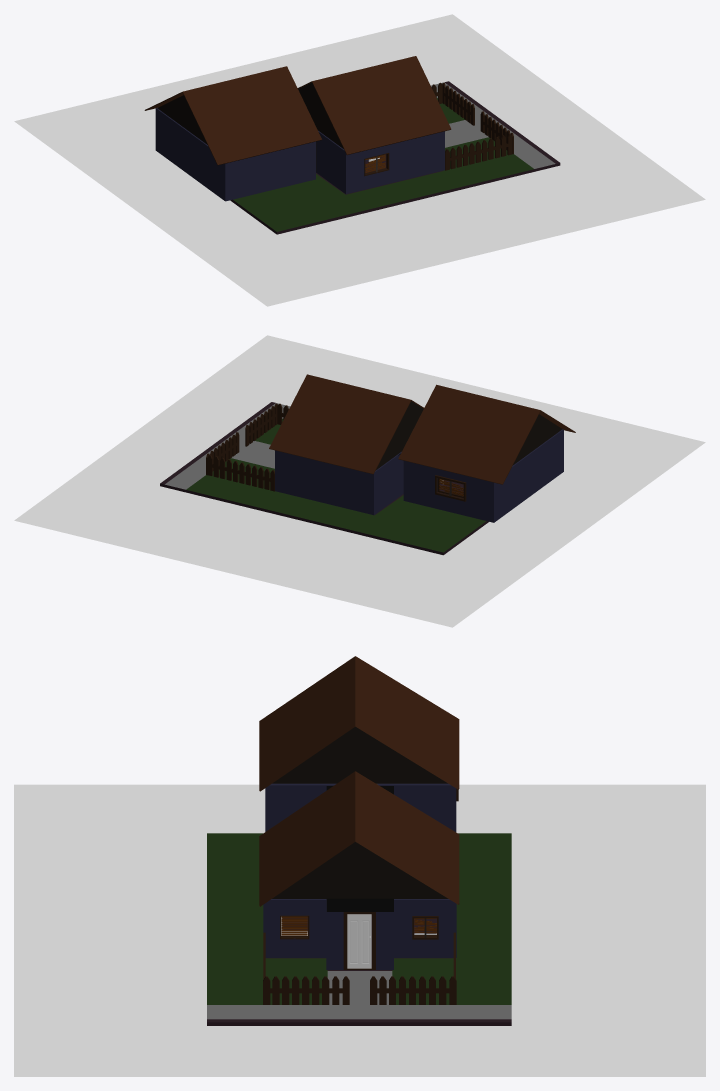
The model's file is Layout.fbx.
3 renders of one model, top to bottom at view 1: azimuth 30°, elevation 25°; view 2: azimuth 150°, elevation 25°; view 3: azimuth 270°, elevation 25°, orthographic. The views are drawn at different scales.
Visible parts, largest first — view 1: Plane, Cube.015, Cube.073, Cube.074, Cube.016, wall, Cube.001, Cube.076, Cube.078, Cube.014, Cube.013; view 2: Plane, Cube.015, Cube.073, Cube.074, Cube.016, wall, Cube.012, Cube.076, Cube.078, Cube.013, Cube.014; view 3: Plane, Cube.015, Cube.074, Cube.073, wall, Cube.075, Cube.077, Cube.016, Cube.013, Cube.014, DOOR, Plane.002.
Boxes of the visible parts, <box> form: Plane: <box>14,14,705,306</box>; Cube.015: <box>230,81,560,234</box>; Cube.073: <box>144,66,321,165</box>; Cube.074: <box>297,56,451,154</box>; Cube.016: <box>155,107,315,201</box>; wall: <box>316,130,444,194</box>; Cube.001: <box>445,134,512,170</box>; Cube.076: <box>298,82,343,148</box>; Cube.078: <box>157,95,207,144</box>; Cube.014: <box>442,82,474,125</box>; Cube.013: <box>480,111,513,154</box>; Plane: <box>14,335,705,627</box>; Cube.015: <box>160,402,488,555</box>; Cube.073: <box>398,384,575,484</box>; Cube.074: <box>269,374,423,474</box>; Cube.016: <box>403,429,563,522</box>; wall: <box>275,450,403,515</box>; Cube.012: <box>207,454,274,491</box>; Cube.076: <box>376,401,423,469</box>; Cube.078: <box>513,414,562,464</box>; Cube.013: <box>245,403,277,446</box>; Cube.014: <box>206,432,239,475</box>; Plane: <box>14,784,705,1076</box>; Cube.015: <box>207,833,511,1025</box>; Cube.074: <box>259,771,459,906</box>; Cube.073: <box>259,656,459,791</box>; wall: <box>263,899,456,969</box>; Cube.075: <box>272,842,448,898</box>; Cube.077: <box>272,726,447,783</box>; Cube.016: <box>265,783,458,831</box>; Cube.013: <box>263,976,349,1004</box>; Cube.014: <box>370,976,456,1004</box>; DOOR: <box>347,914,371,968</box>; Plane.002: <box>326,898,393,911</box>.
Bounding box in the file's own units: 19369 × 4800 × 19369.
